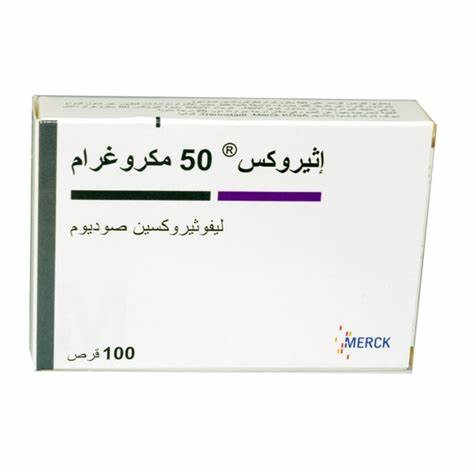Medicine: (23, 84, 441, 393)
